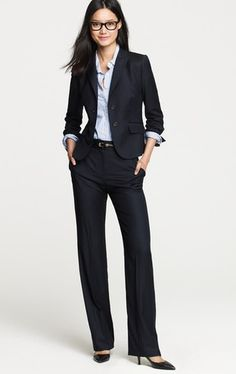F_W_pants: (62, 147, 166, 360)
F_W_suit jacket: (57, 52, 172, 160)
F_shirt: (94, 50, 113, 139)
